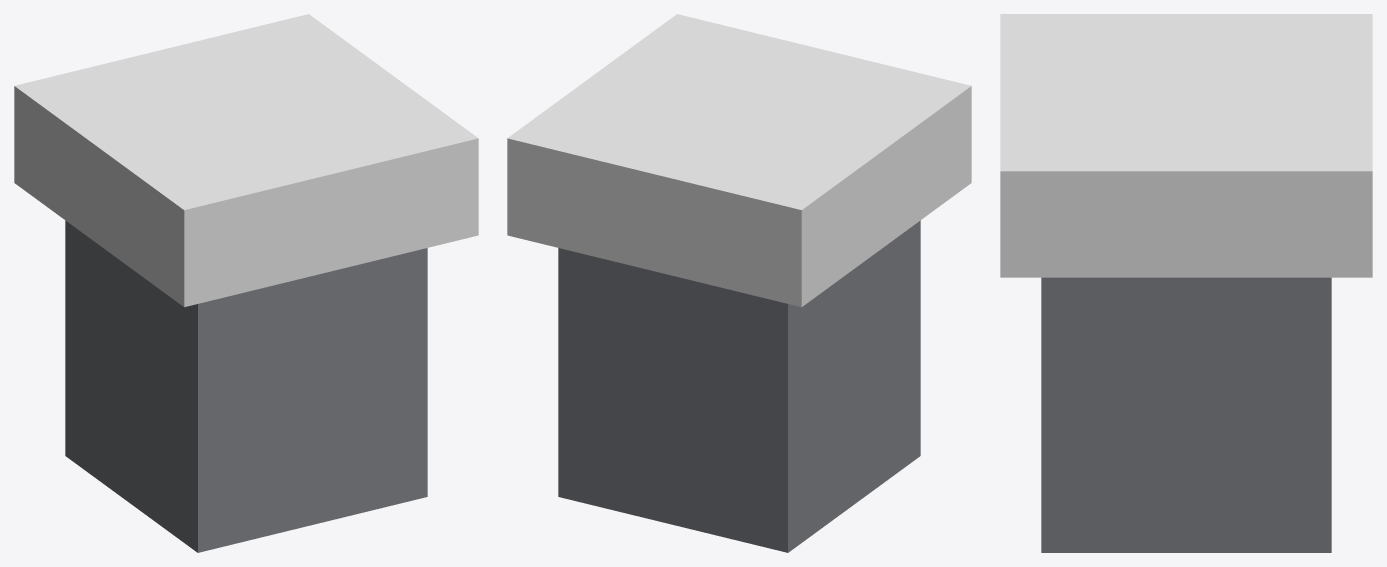
Rendered from Platform5.fbx.
3 views of the same model, side by side, from view 1: azimuth 30°, elevation 25°; view 2: azimuth 150°, elevation 25°; view 3: azimuth 270°, elevation 25° (orthographic). The views are drawn at different scales.
Parts seen in each view (by area): view 1: Cube.012; view 2: Cube.012; view 3: Cube.012.
Boxes of the visible parts, box(x1,y1,x2,y2) form: Cube.012: box(14, 14, 478, 552); Cube.012: box(507, 14, 971, 552); Cube.012: box(1000, 14, 1372, 552).
Bounding box in the file's own units: 12.84 × 15.17 × 12.83.
